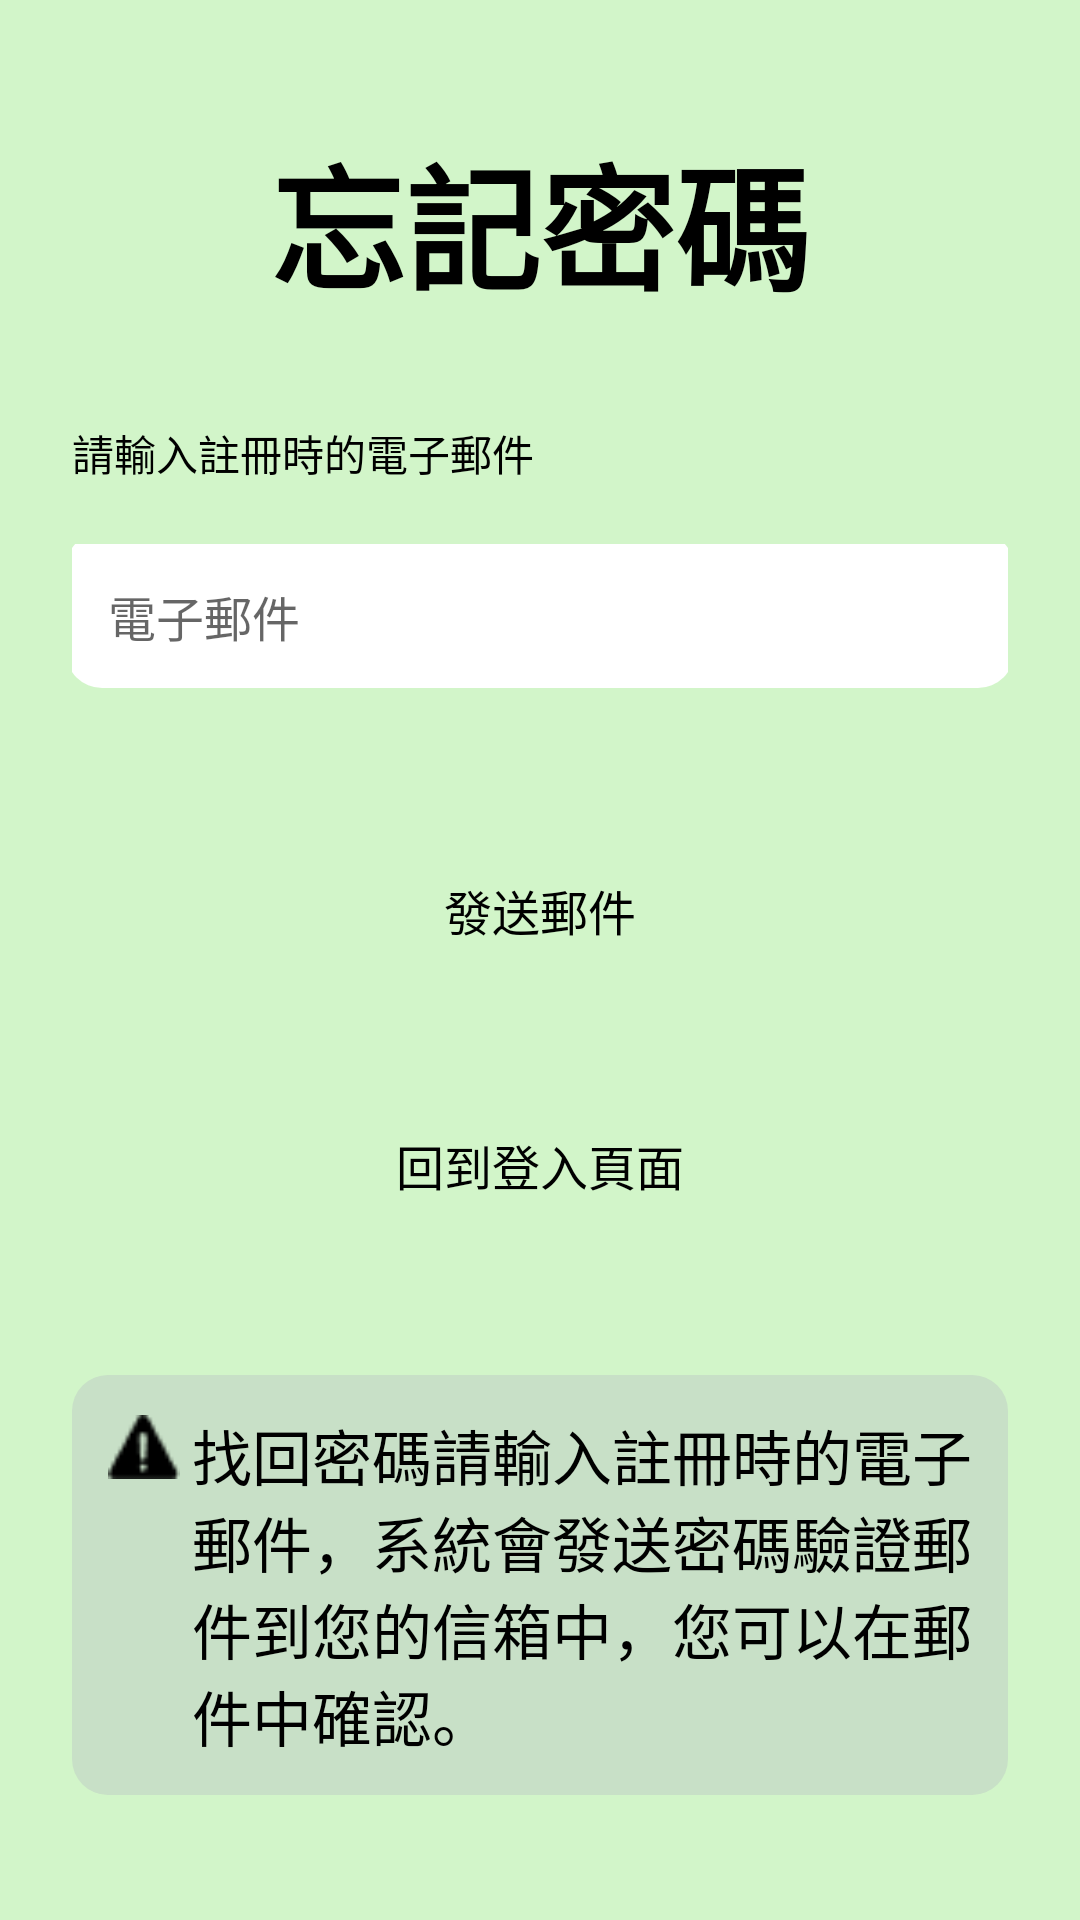

Named icons in this screenshot (1080*1920) and their bounding boxes, [left=x1, top=y1, right=x2, bottom=y2]:
warning: [left=108, top=1415, right=180, bottom=1479]
